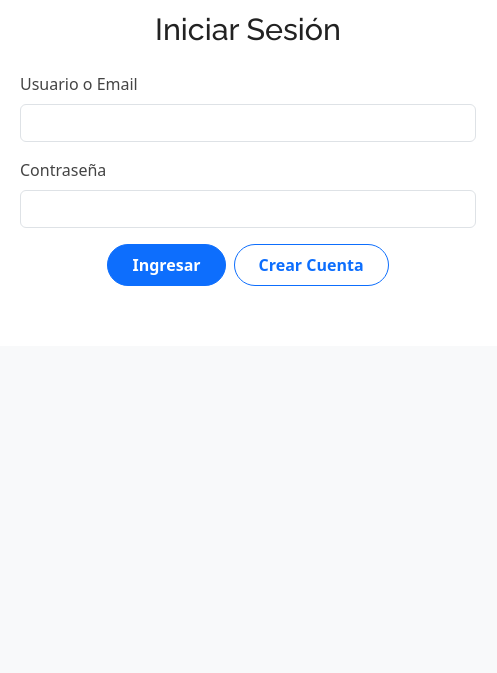
Test case: Auth - Registro › muestra error si la contraseña tiene menos de 8 caracteres
Click the button "Crear Cuenta": (311, 264) [234,244,389,286]
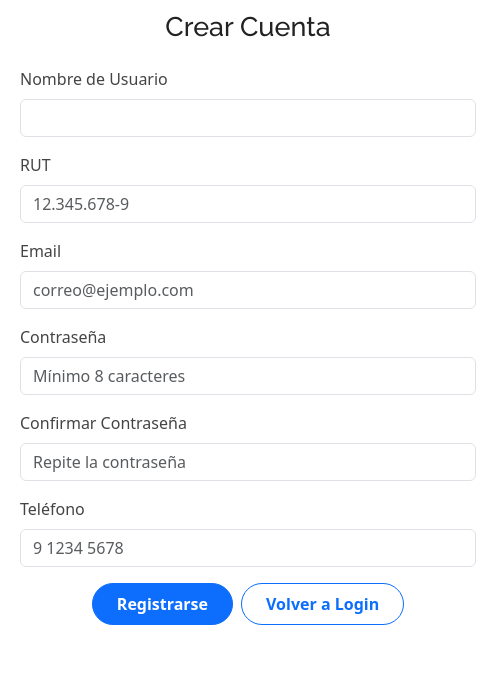
In the field labelled "RUT": (248, 204) [20,185,476,223], type "12.345.678-5"
In the field labelled "Email": (248, 290) [20,271,476,309], type "test@example.com"
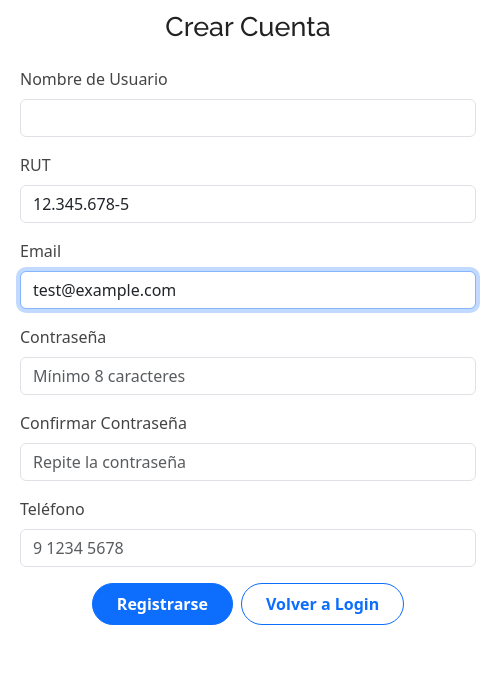
In the field labelled "Teléfono": (248, 548) [20,529,476,567], type "912345678"
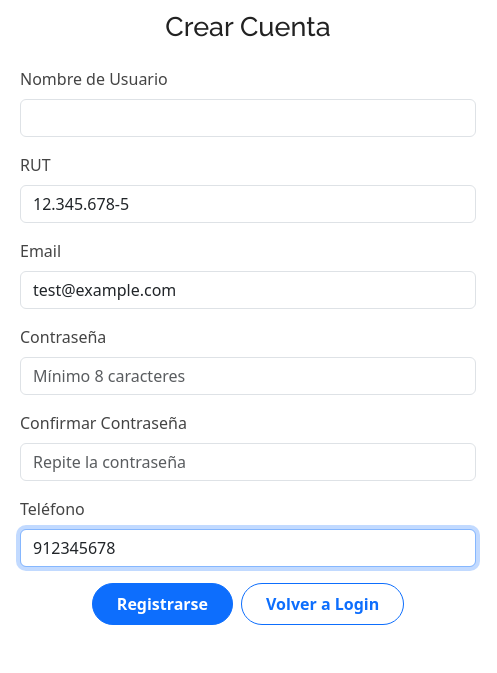
In the password field with placeholder "Mínimo 8 caracteres": (248, 376) [20,357,476,395], type "1234567"
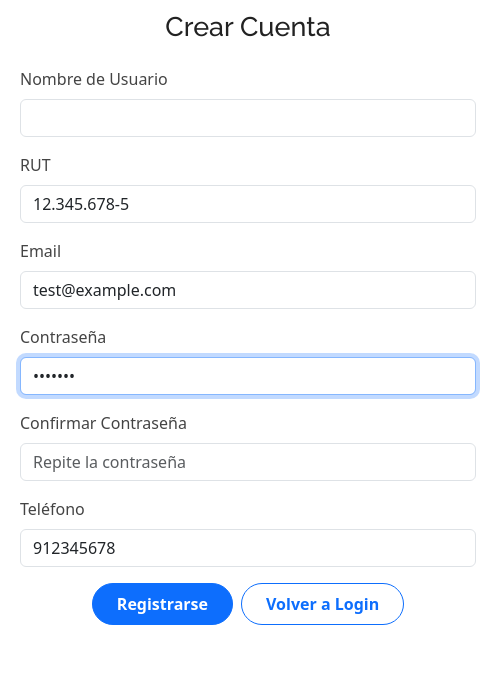
In the password field with placeholder "Repite la contraseña": (248, 462) [20,443,476,481], type "1234567"
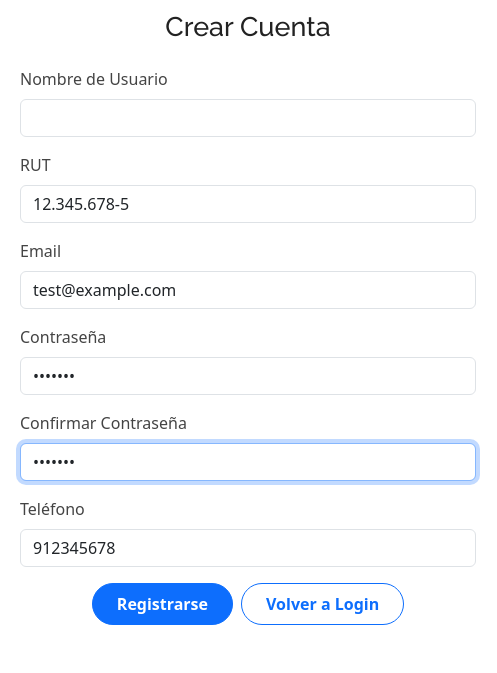
Click the button "Registrarse": (162, 604) [92,583,233,625]
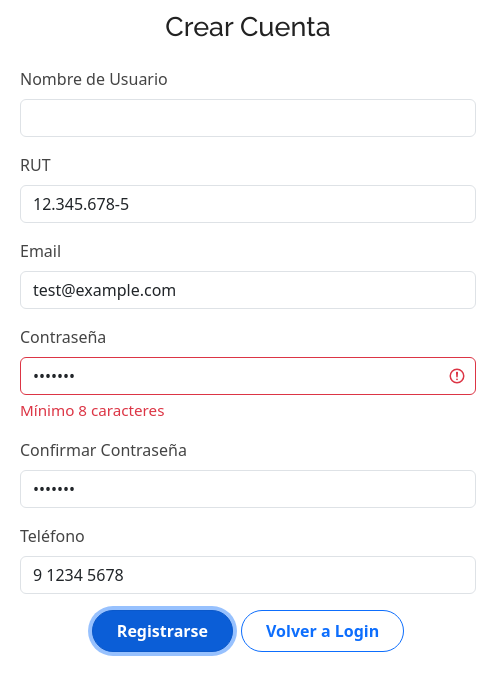
Now the text "Mínimo 8 caracteres" is shown, box [20,400,164,420]
